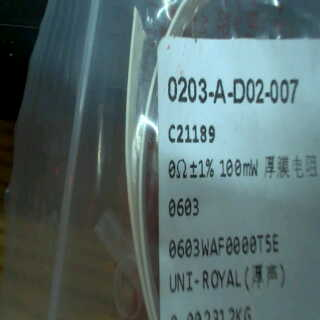0R: (165, 156, 262, 222)
